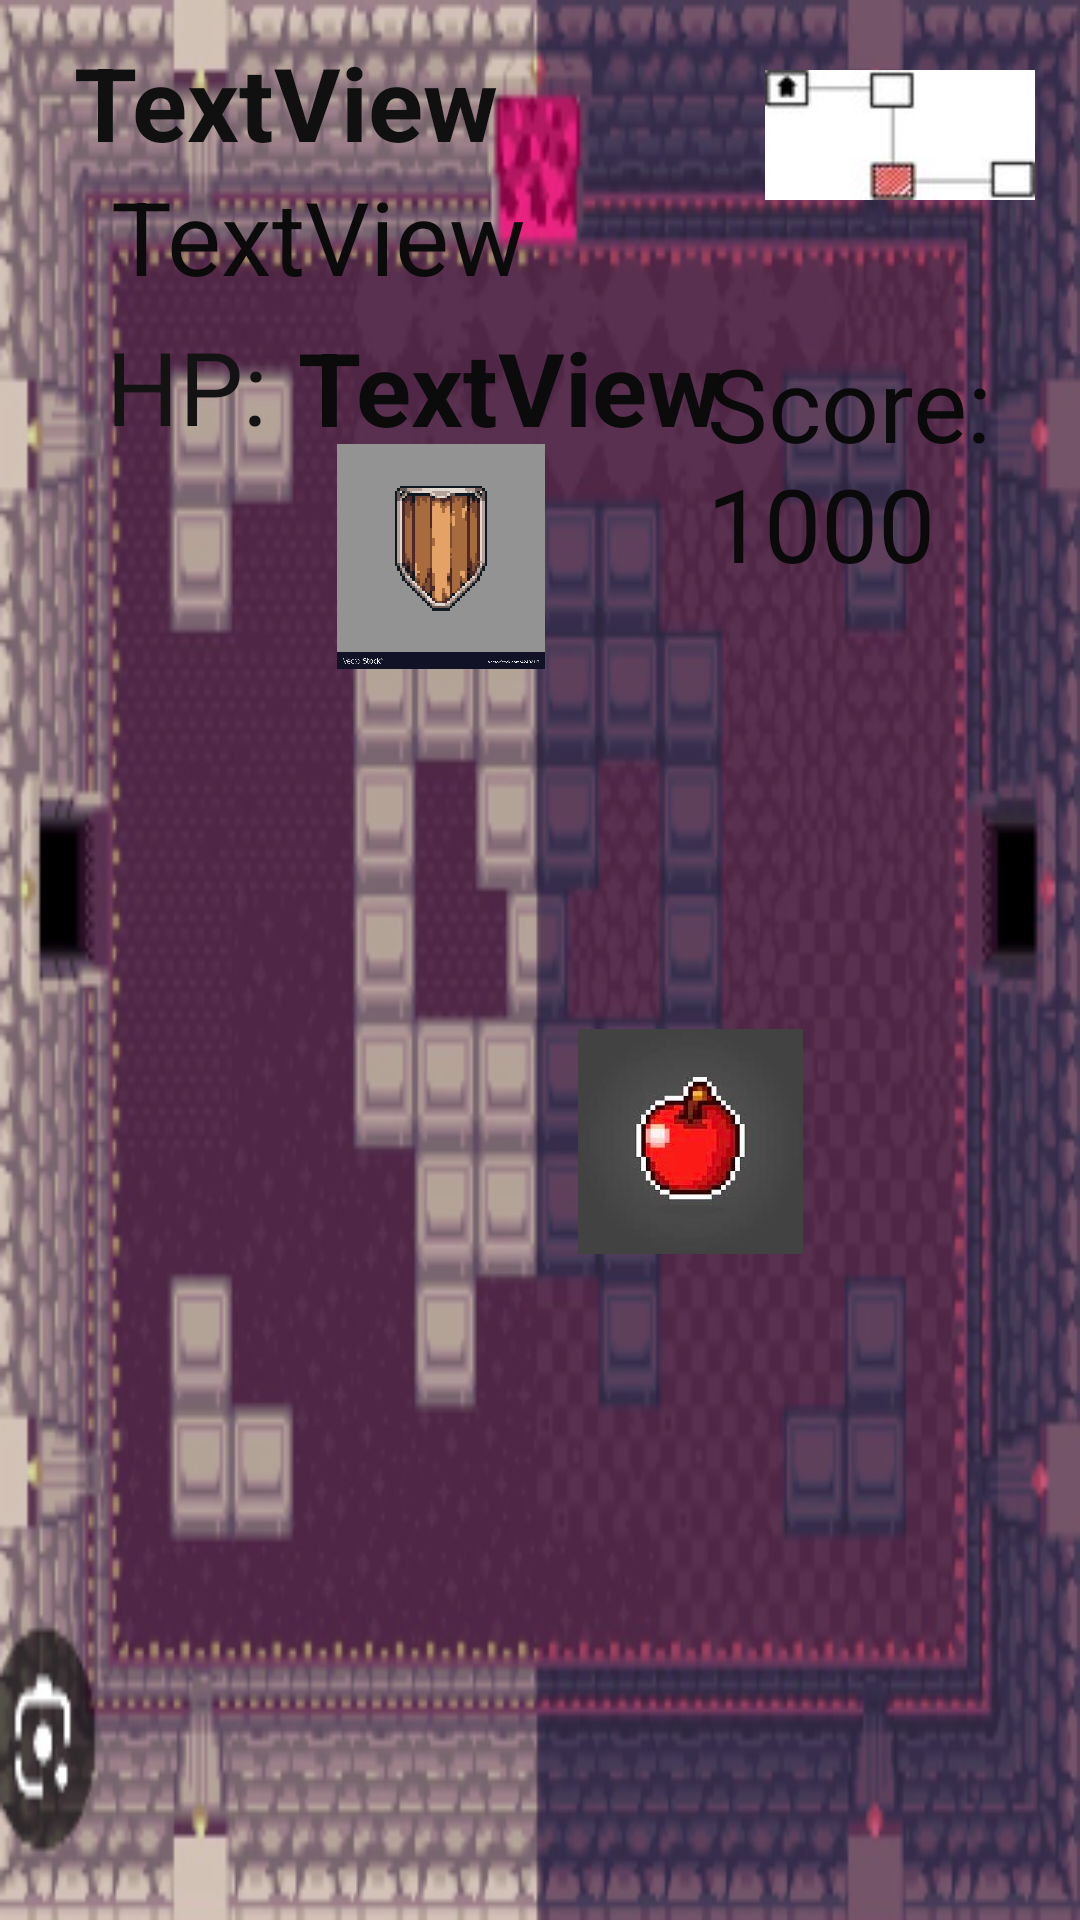

Named icons in this screenshot (1080px x 1920px) and their centers, (x=x, y=y):
room: (x=900, y=135)
